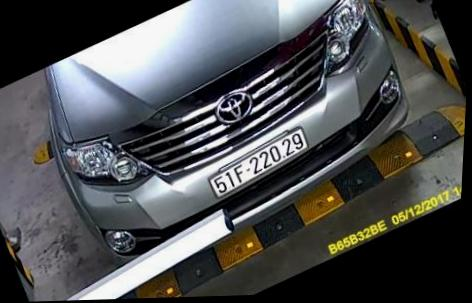License_Plate: (208, 124, 312, 200)
